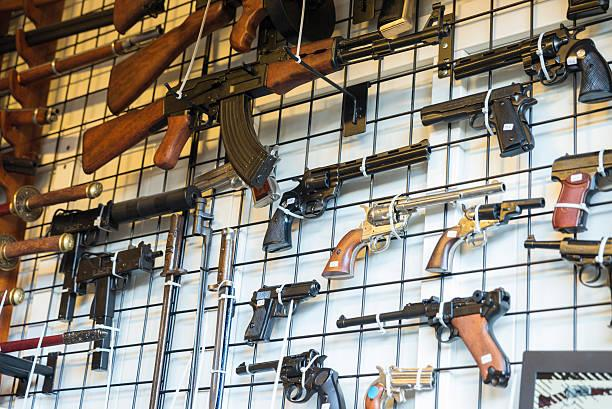weapon: (78, 2, 448, 182), (256, 139, 431, 249), (319, 182, 508, 278), (336, 290, 515, 378), (73, 241, 158, 367), (426, 193, 543, 273), (418, 81, 538, 156), (233, 356, 344, 409), (548, 151, 612, 231), (244, 277, 318, 343), (357, 355, 436, 409)
